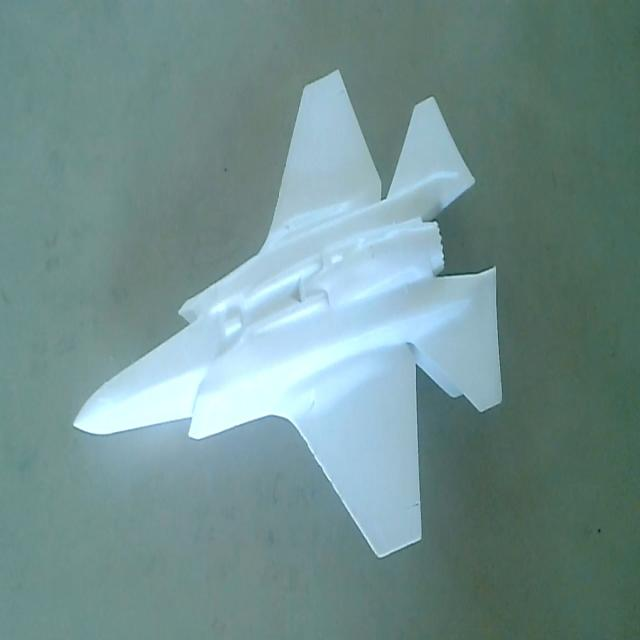Jet: (70, 68, 506, 565)
